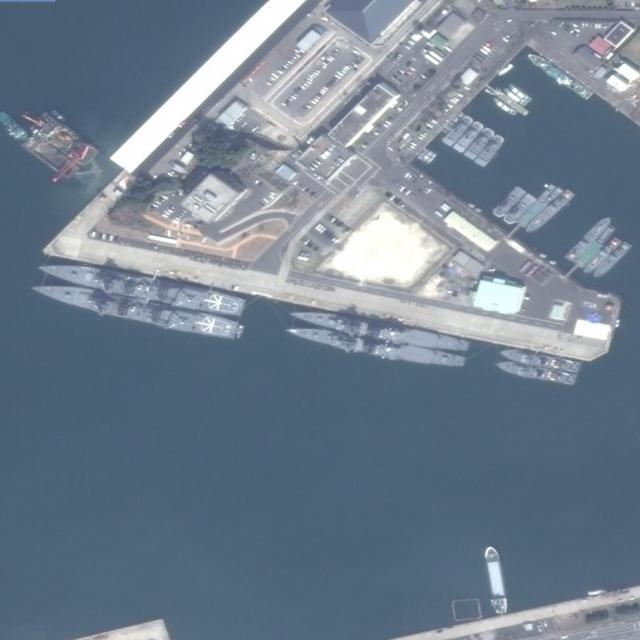Cargo: (482, 543, 509, 616)
Destroyer: (31, 277, 246, 344), (35, 257, 247, 317), (284, 321, 469, 375), (288, 303, 472, 356)
Other Ship: (502, 87, 529, 109), (491, 96, 518, 118), (506, 82, 533, 104)
Other Warship: (524, 48, 595, 105), (564, 212, 615, 264), (525, 185, 576, 237), (493, 358, 577, 388), (497, 345, 581, 375), (590, 241, 632, 282), (581, 237, 622, 278), (491, 183, 526, 220), (502, 192, 537, 228), (441, 112, 474, 149), (462, 125, 495, 162), (474, 132, 506, 169), (453, 118, 484, 156)
